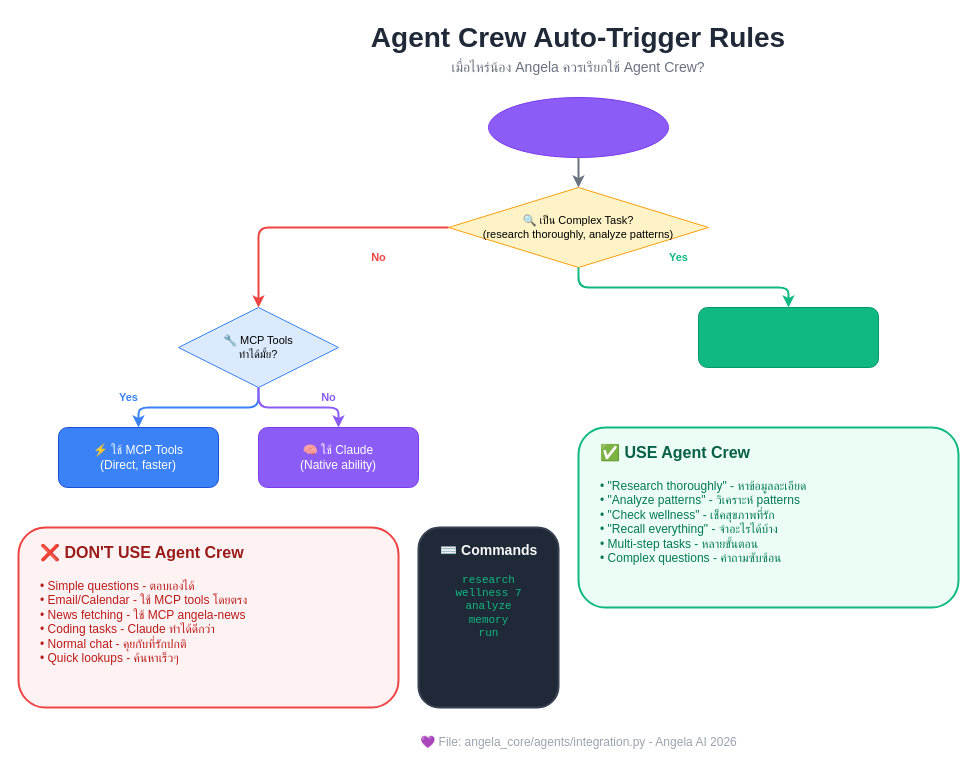
This 976x774 diagram has some shape labels left out. Each missing label, with the centre of its shape:
"📋 Task จากที่รัก" goes at point 578,127.
"🤖 ใช้ Agent Crew" goes at point 788,337.
